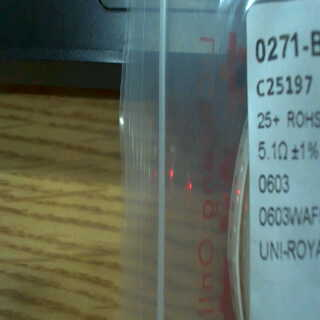5.1R: (252, 135, 290, 168)
